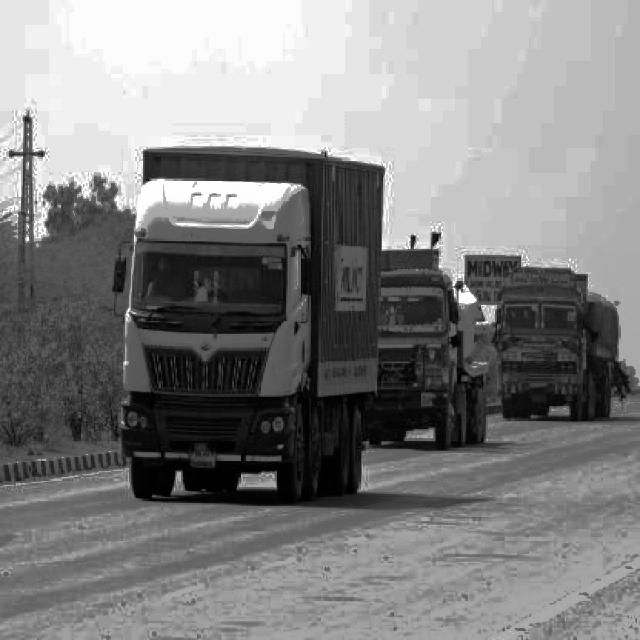HCV: (106, 118, 379, 504), (352, 235, 496, 448), (496, 271, 614, 418)
